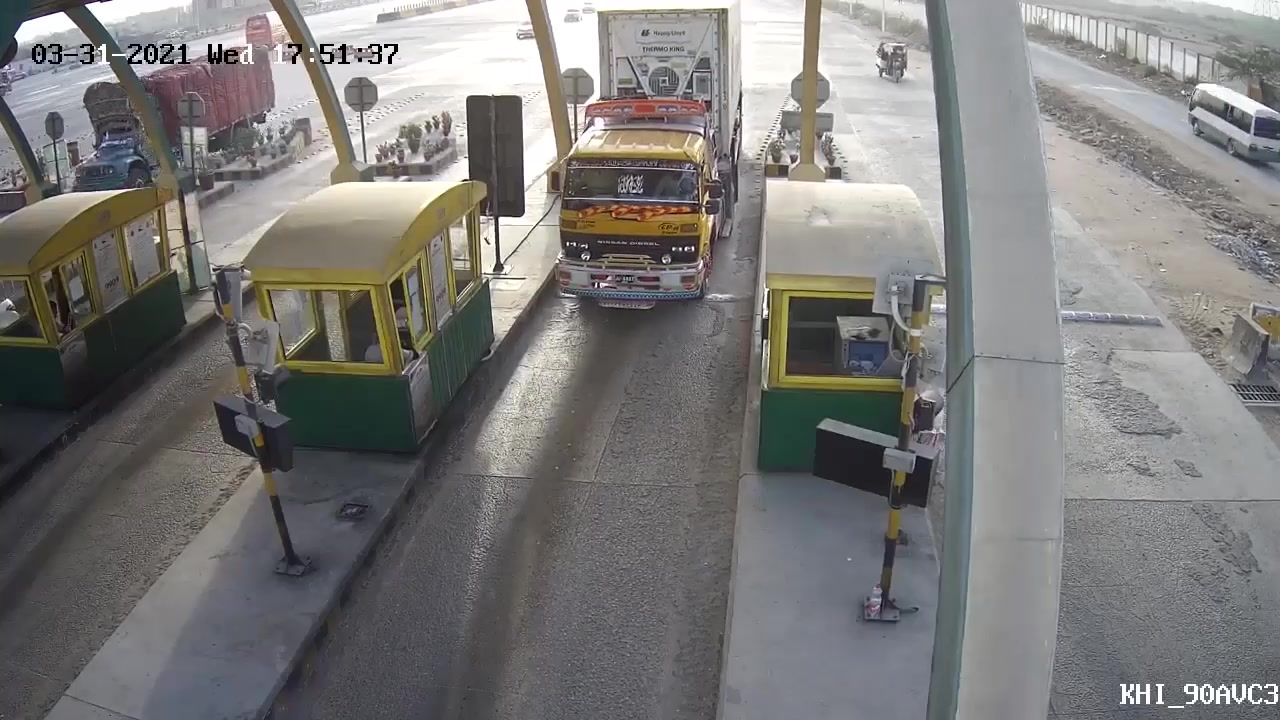F6: (549, 2, 749, 310)
